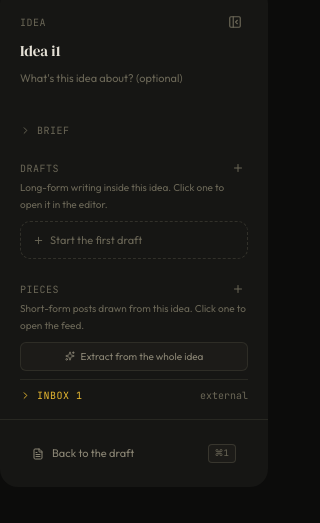
idea Inbox review › stays collapsed per idea until asked, then approve turns the arrival into a piece
The image size is (320, 523).
Expected: the button "Approve" is not shown
Click the button "Inbox 1 external" at (134, 395), box [20,388,248,403]
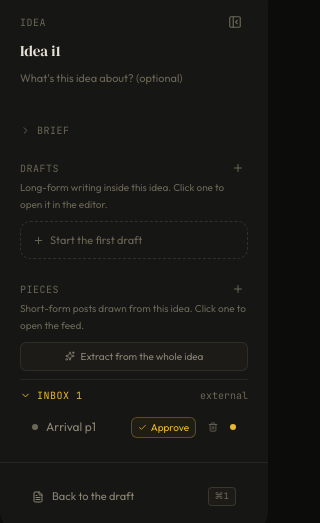
Click the button "Approve" at (163, 427), box [131,417,196,438]
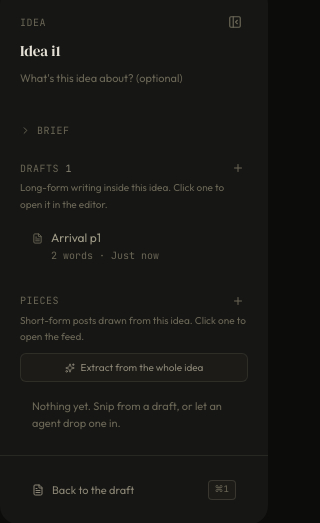
Expected: the button "Inbox 1 external" is gone
